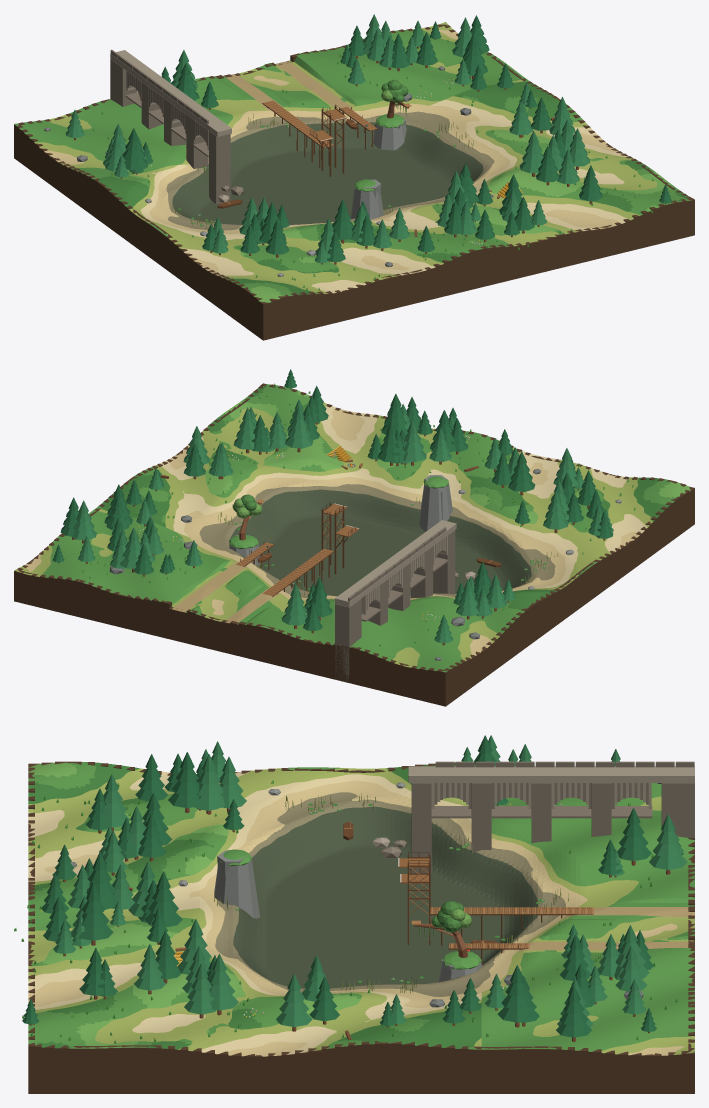
File: Loc_Lake.fbx
3 renders of one model, top to bottom at view 1: azimuth 30°, elevation 25°; view 2: azimuth 150°, elevation 25°; view 3: azimuth 270°, elevation 25°, orthographic. The views are drawn at different scales.
Parts seen in each view (by area): view 1: Soil, Grass, LakeMud, GrassDry, PineA, PineB, SandDry, LakeSand, StoneDark, GrassDark, WetSand, GrassLight (+7 smaller); view 2: Soil, Grass, LakeMud, GrassDry, PineB, PineA, SandDry, LakeSand, StoneDark, WetSand, GrassDark, GrassLight (+8 smaller); view 3: LakeMud, Grass, Soil, GrassDry, PineA, PineB, StoneDark, LakeSand, SandDry, GrassDark, WetSand, Stone (+10 smaller).
Boxes of the visible parts, x1=… form: Soil: x1=14, y1=24, x2=694, y2=340; Grass: x1=14, y1=22, x2=691, y2=296; LakeMud: x1=172, y1=122, x2=483, y2=224; GrassDry: x1=34, y1=22, x2=656, y2=293; PineA: x1=122, y1=15, x2=671, y2=262; PineB: x1=65, y1=14, x2=590, y2=263; SandDry: x1=140, y1=99, x2=630, y2=293; LakeSand: x1=39, y1=29, x2=618, y2=291; StoneDark: x1=110, y1=49, x2=244, y2=203; GrassDark: x1=98, y1=81, x2=688, y2=294; WetSand: x1=166, y1=111, x2=494, y2=230; GrassLight: x1=128, y1=117, x2=671, y2=302; Soil: x1=14, y1=383, x2=694, y2=706; Grass: x1=14, y1=384, x2=679, y2=672; LakeMud: x1=230, y1=489, x2=531, y2=596; GrassDry: x1=15, y1=402, x2=652, y2=667; PineB: x1=71, y1=399, x2=613, y2=643; PineA: x1=52, y1=369, x2=613, y2=630; SandDry: x1=160, y1=404, x2=647, y2=597; LakeSand: x1=24, y1=409, x2=639, y2=658; StoneDark: x1=335, y1=527, x2=458, y2=682; WetSand: x1=199, y1=484, x2=555, y2=598; GrassDark: x1=101, y1=386, x2=669, y2=609; GrassLight: x1=151, y1=391, x2=690, y2=525; LakeMud: x1=228, y1=806, x2=538, y2=988; Grass: x1=28, y1=762, x2=694, y2=1052; Soil: x1=28, y1=761, x2=694, y2=1093; GrassDry: x1=28, y1=768, x2=694, y2=1054; PineA: x1=22, y1=735, x2=683, y2=1037; PineB: x1=53, y1=735, x2=687, y2=1027; StoneDark: x1=381, y1=761, x2=694, y2=873; LakeSand: x1=28, y1=780, x2=684, y2=1056; SandDry: x1=28, y1=771, x2=481, y2=1054; GrassDark: x1=28, y1=762, x2=481, y2=1049; WetSand: x1=215, y1=792, x2=565, y2=996; Stone: x1=372, y1=766, x2=694, y2=847.
Bounding box in the file's own units: 100 × 18.8 × 102.
